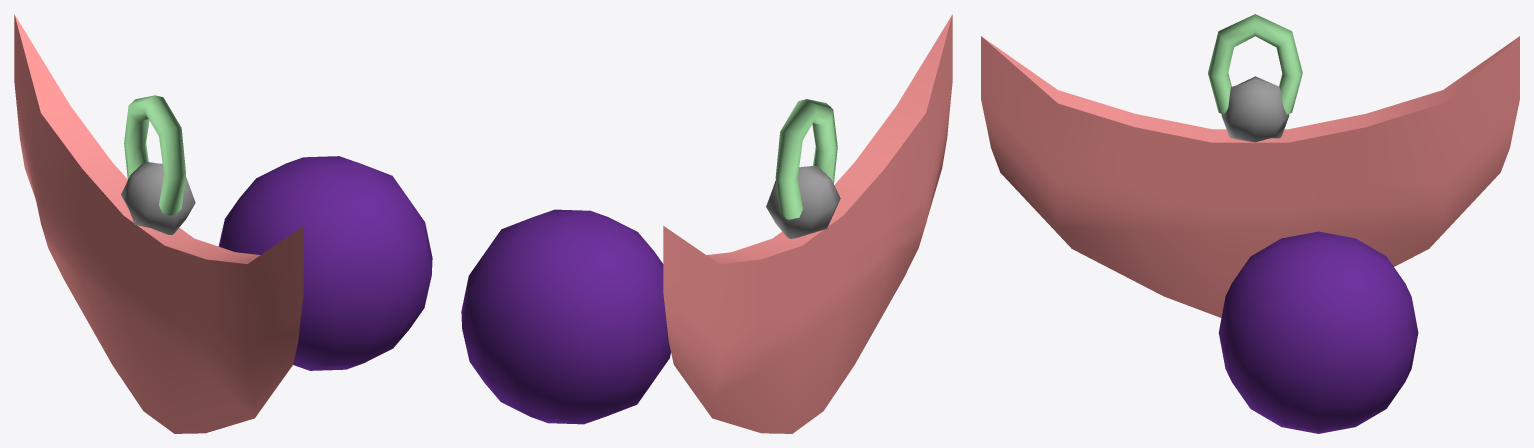
File: chains and axe props 1.fbx
The picture shows the model from 3 angles, left to right: view 1: azimuth 30°, elevation 25°; view 2: azimuth 150°, elevation 25°; view 3: azimuth 270°, elevation 25°; orthographic projection. The views are drawn at different scales.
Visible parts, largest first — view 1: hacha, esfera, cadena, agarre; view 2: hacha, esfera, cadena, agarre; view 3: hacha, esfera, cadena, agarre.
Boxes of the visible parts, bbox=[...] form: hacha: bbox=[14, 14, 303, 433]; esfera: bbox=[218, 156, 432, 370]; cadena: bbox=[124, 95, 185, 215]; agarre: bbox=[121, 161, 195, 234]; hacha: bbox=[663, 14, 952, 433]; esfera: bbox=[461, 209, 670, 424]; cadena: bbox=[775, 99, 837, 219]; agarre: bbox=[766, 165, 840, 238]; hacha: bbox=[981, 36, 1519, 317]; esfera: bbox=[1218, 231, 1418, 433]; cadena: bbox=[1208, 14, 1302, 114]; agarre: bbox=[1221, 76, 1289, 142].
Size of the model in its own units: 8529 by 8533 by 13162.
